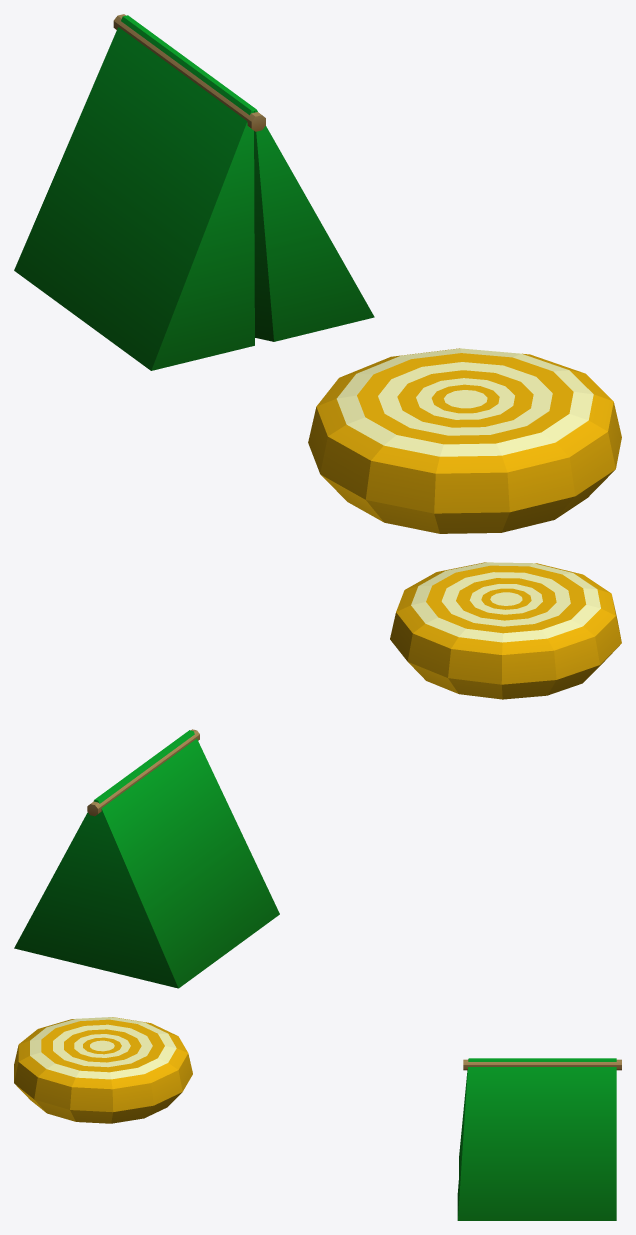
Rendered from PropsCampamento.fbx.
The picture shows the model from 3 angles, top to bottom: view 1: azimuth 30°, elevation 25°; view 2: azimuth 150°, elevation 25°; view 3: azimuth 270°, elevation 25°; orthographic projection. The views are drawn at different scales.
Visible parts, largest first — view 1: Carpa, Inflable; view 2: Carpa, Inflable; view 3: Carpa, Inflable.
Boxes of the visible parts, x1,y1,x2,y2 form: Carpa: (14, 14, 374, 370); Inflable: (308, 348, 621, 533); Carpa: (14, 729, 279, 988); Inflable: (390, 562, 621, 699); Carpa: (457, 1058, 621, 1220); Inflable: (14, 1017, 192, 1123).
Size of the model in its own units: 318 by 195 by 823.
